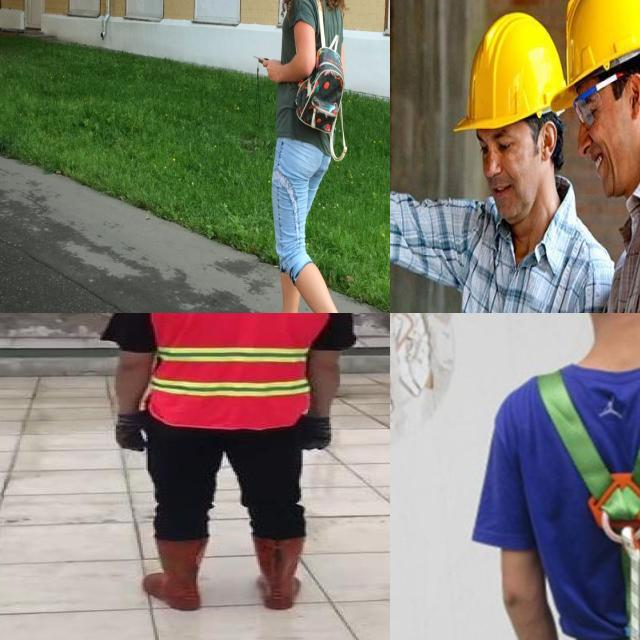Harness: (504, 361, 640, 640)
No_Ear-Protection: (467, 4, 561, 233), (565, 0, 640, 221)
hand_glove: (105, 398, 156, 470), (294, 400, 335, 463)
person: (98, 313, 358, 610)
